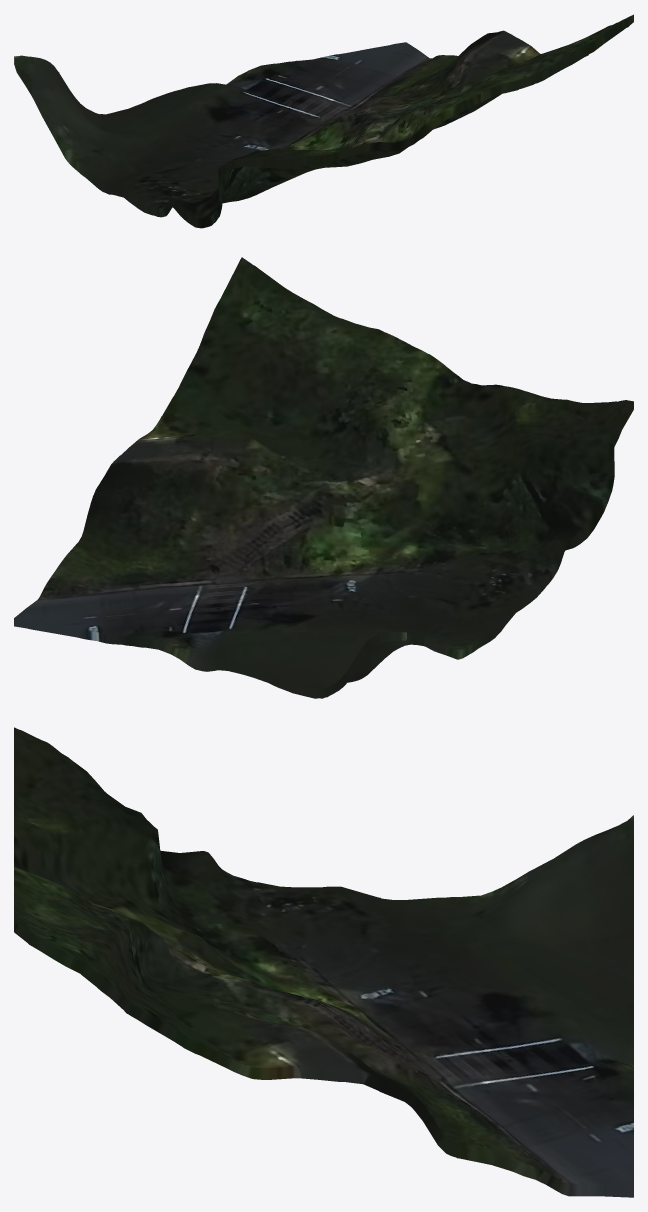
Rendered from z20-167753-405194-h0-yup-uvflip-v3-world.glb.
The picture shows the model from 3 angles, top to bottom: view 1: azimuth 30°, elevation 25°; view 2: azimuth 150°, elevation 25°; view 3: azimuth 270°, elevation 25°; orthographic projection. The views are drawn at different scales.
Bounding box in the file's own units: 30.16 × 14.88 × 30.32.
1 material, 1 textured.
